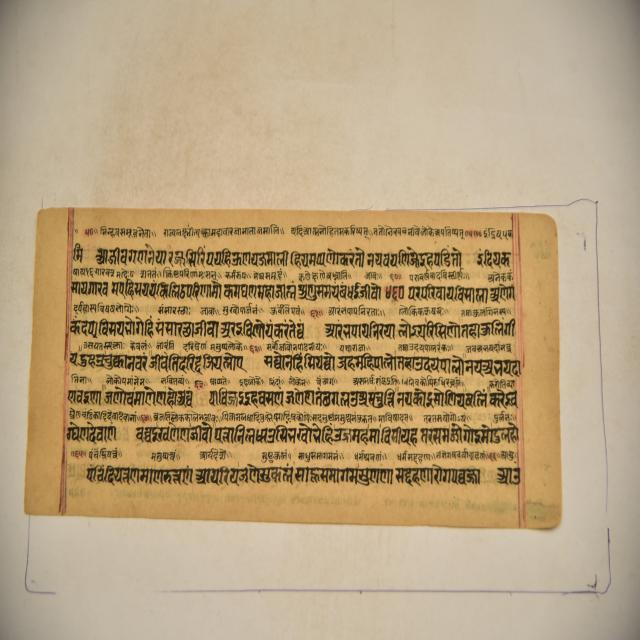text_paragraph: (22, 212, 562, 531)
